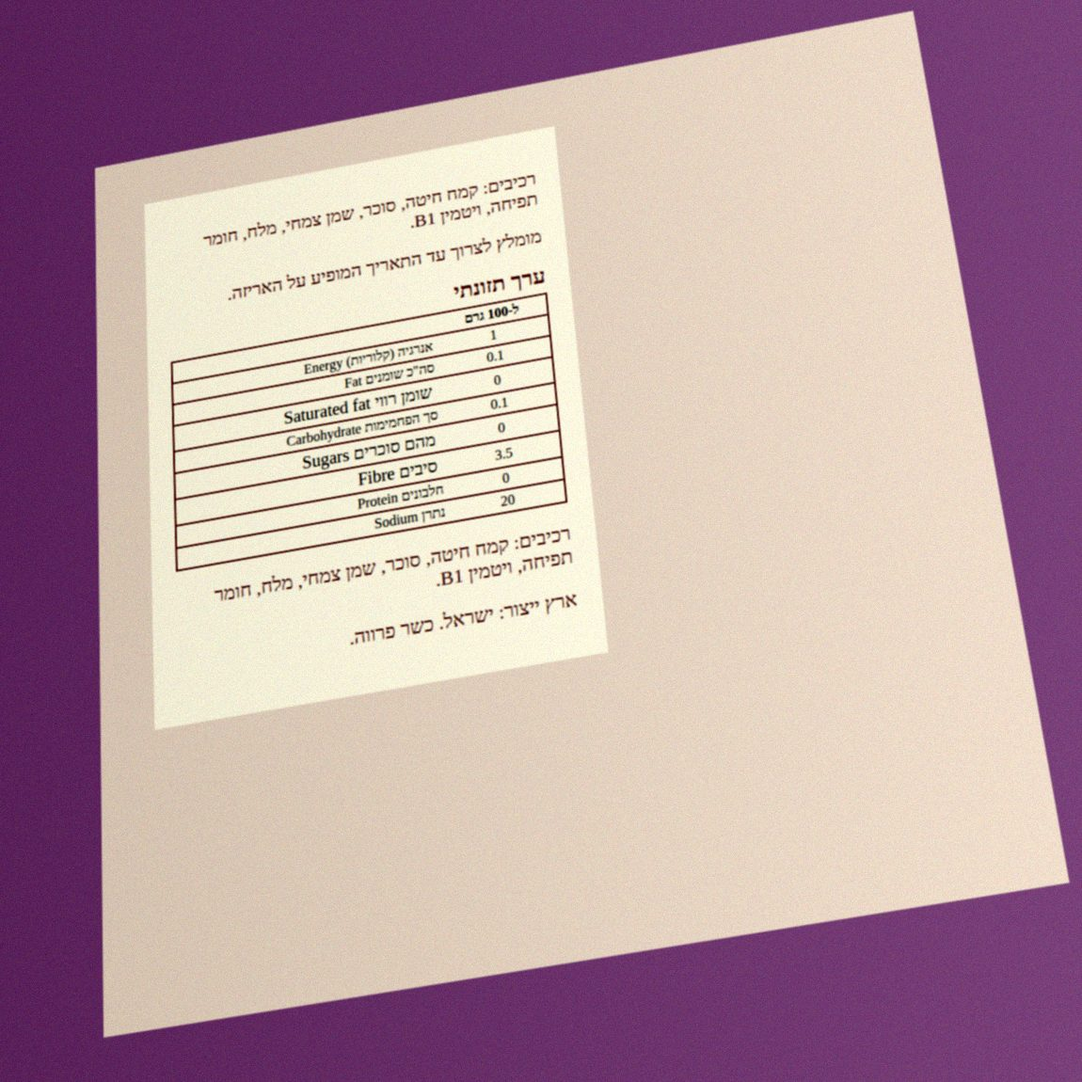carbs: (488, 392, 511, 414)
energy: (488, 325, 499, 344)
fat: (484, 345, 507, 367)
protein: (500, 468, 512, 488)
